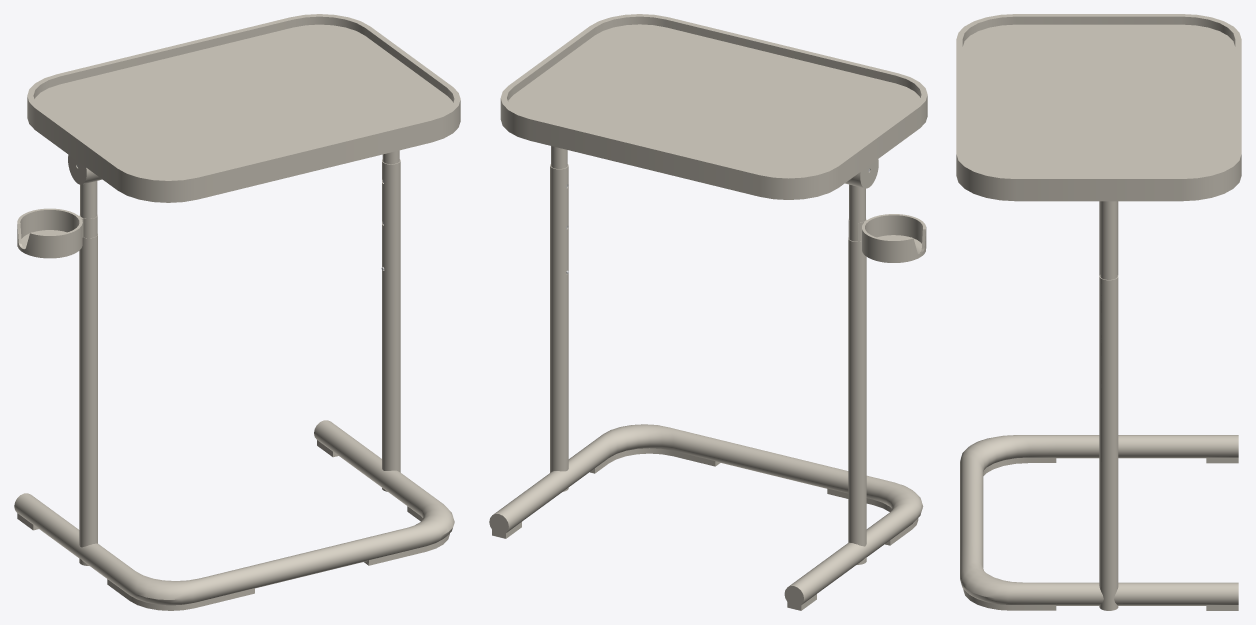
The model's file is bjorkassen_labtop_table_beige.fbx.
The picture shows the model from 3 angles, left to right: view 1: azimuth 30°, elevation 25°; view 2: azimuth 150°, elevation 25°; view 3: azimuth 270°, elevation 25°; orthographic projection. The views are drawn at different scales.
Parts seen in each view (by area): view 1: Cube; view 2: Cube; view 3: Cube.
Part boxes in pixels (left/top/right/bottom): Cube: left=14, top=14, right=460, bottom=610; Cube: left=489, top=14, right=927, bottom=610; Cube: left=956, top=14, right=1241, bottom=610.
Bounding box in the file's own units: 385 × 415 × 245.
1 material, 1 textured.
